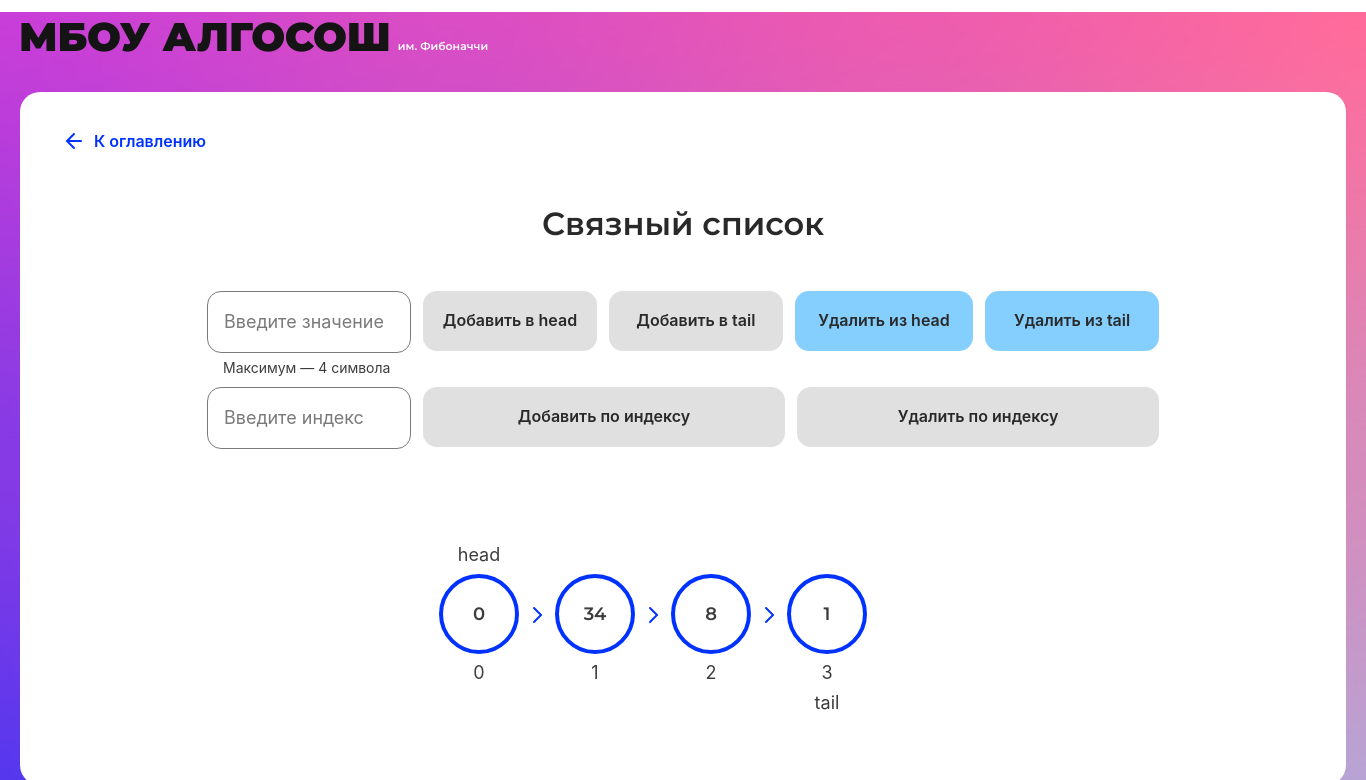
Test: list works correctly › should if the input is empty, then the "delete from tail" button is disabled
Click the button "Удалить из tail" at x=1072, y=321, box top-left (985, 291), bottom-right (1159, 351)
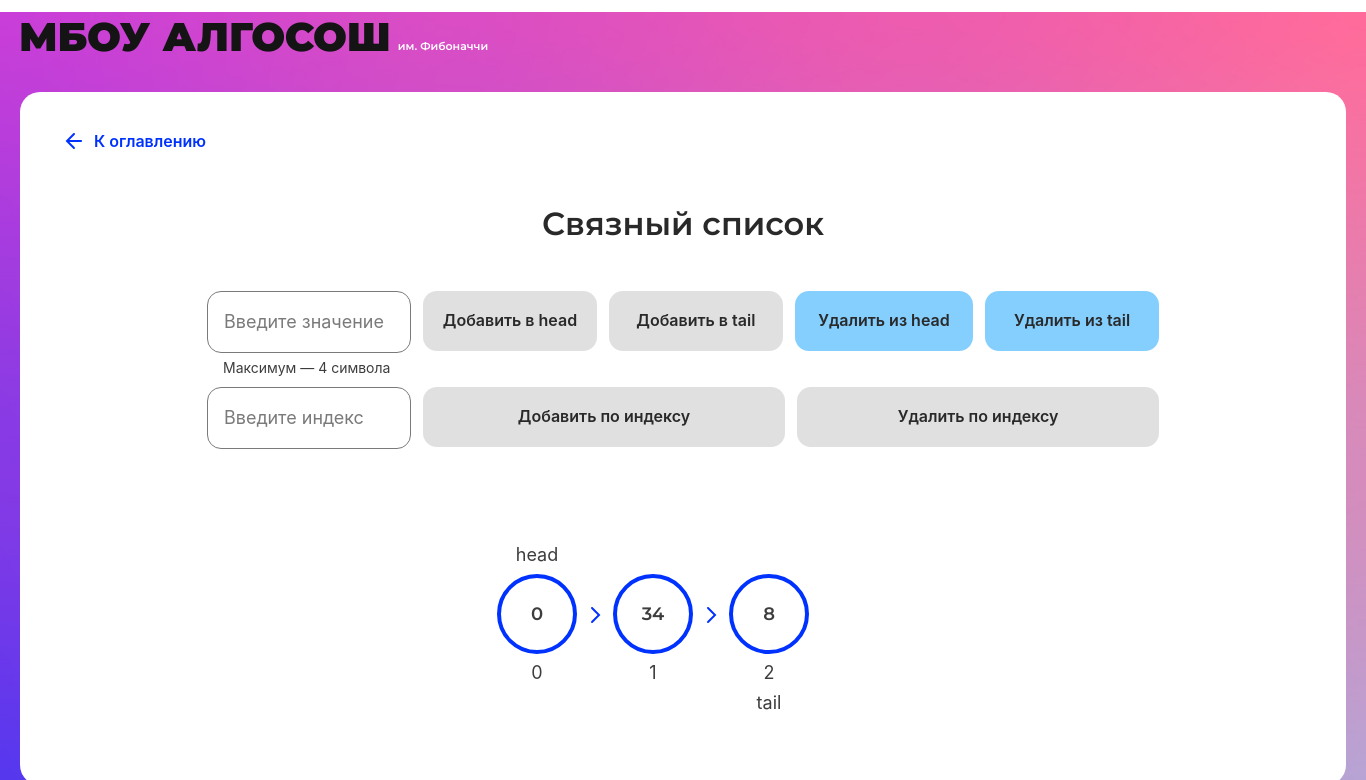
Click the button "Удалить из tail" at x=1072, y=321, box top-left (985, 291), bottom-right (1159, 351)
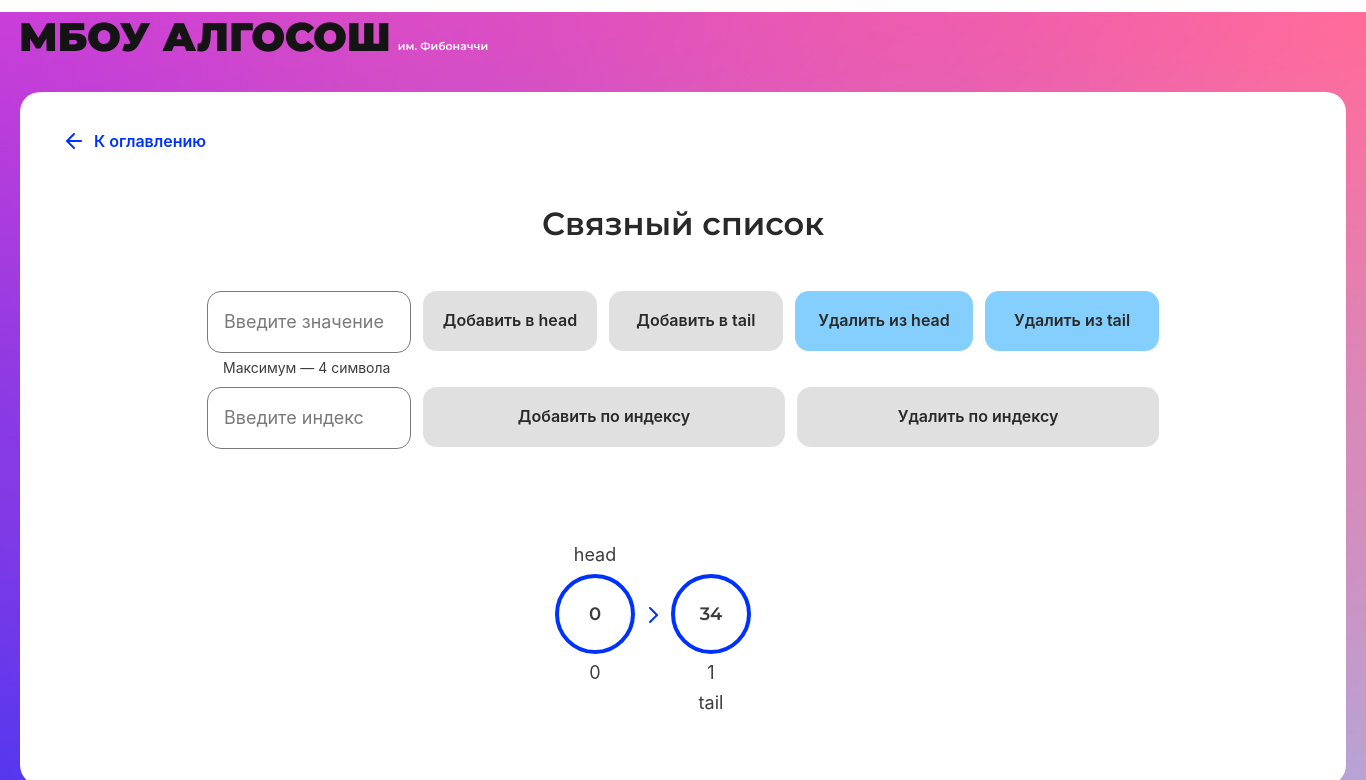
Click the button "Удалить из tail" at x=1072, y=321, box top-left (985, 291), bottom-right (1159, 351)
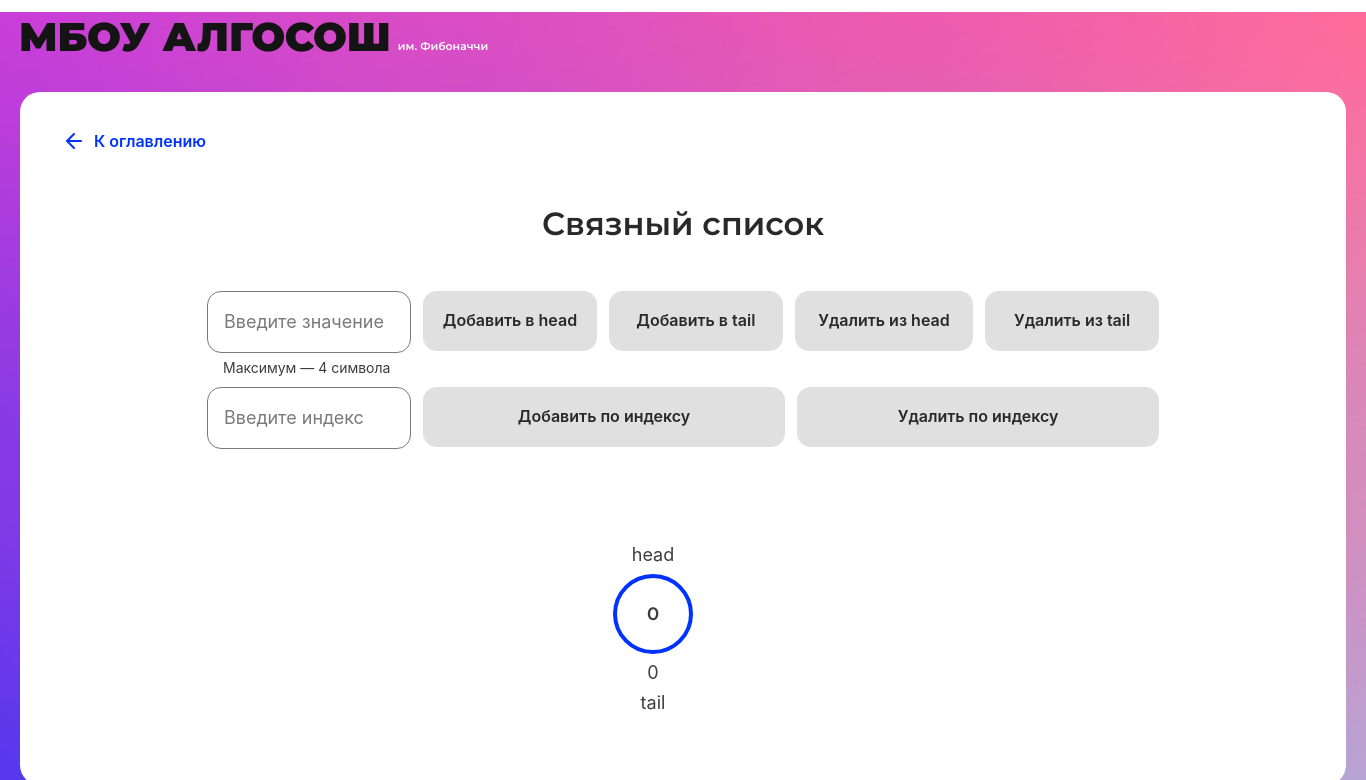
Result: the number of elements with test id "circle-text" is 1 at top-left (647, 603), bottom-right (659, 625)
Result: the button "Удалить из tail" is disabled at top-left (985, 291), bottom-right (1159, 351)
